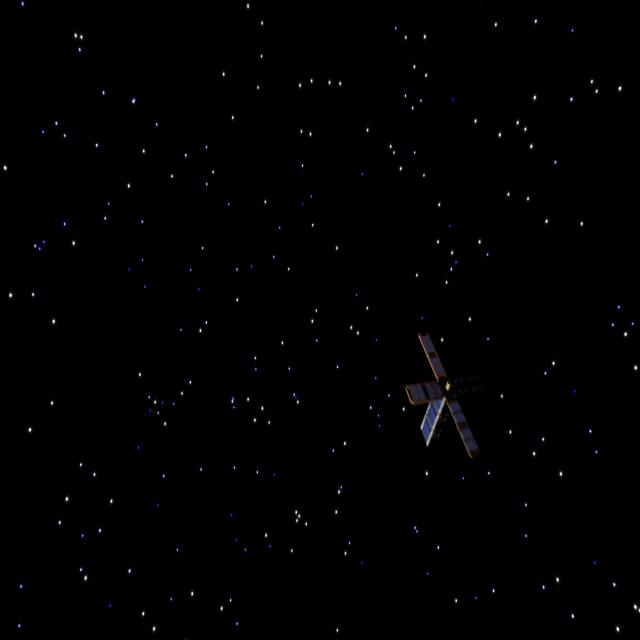satellite: (408, 324, 487, 470)
